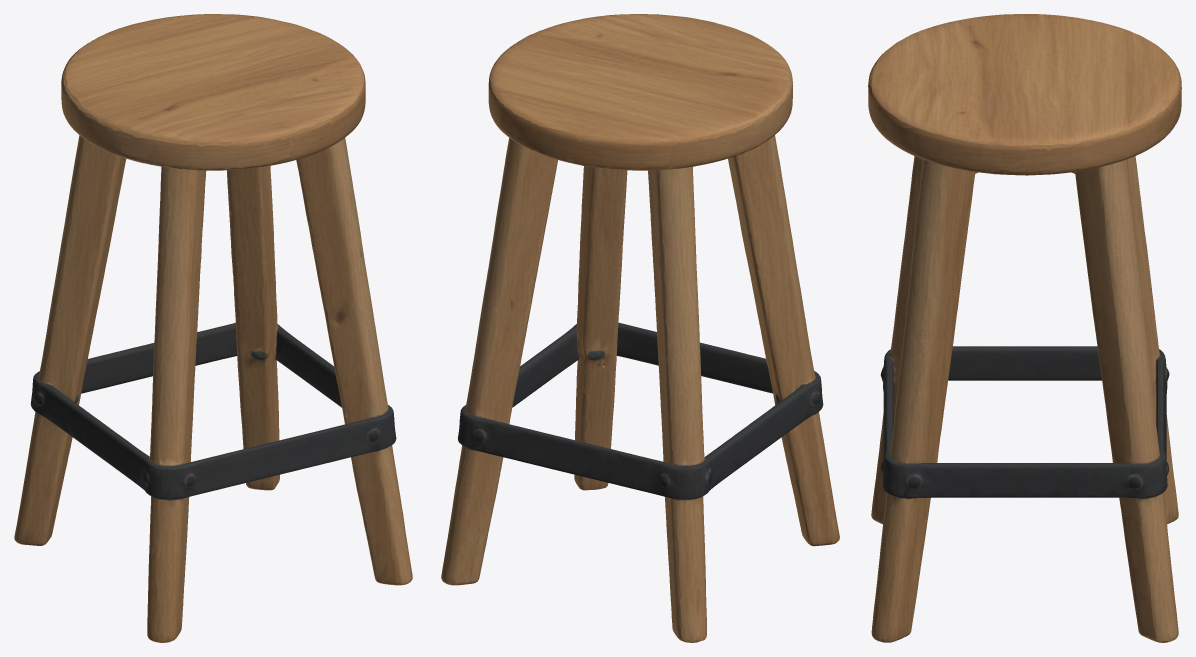
The model's file is L_STOOL.glb.
The picture shows the model from 3 angles, left to right: view 1: azimuth 30°, elevation 25°; view 2: azimuth 150°, elevation 25°; view 3: azimuth 270°, elevation 25°; orthographic projection. The views are drawn at different scales.
Visible parts, largest first — view 1: world; view 2: world; view 3: world.
Boxes of the visible parts, bbox=[...] form: world: bbox=[14, 14, 412, 642]; world: bbox=[441, 14, 839, 642]; world: bbox=[868, 14, 1181, 642].
Size of the model in its own units: 0.368 by 0.65 by 0.3681.
1 material, 1 textured.
